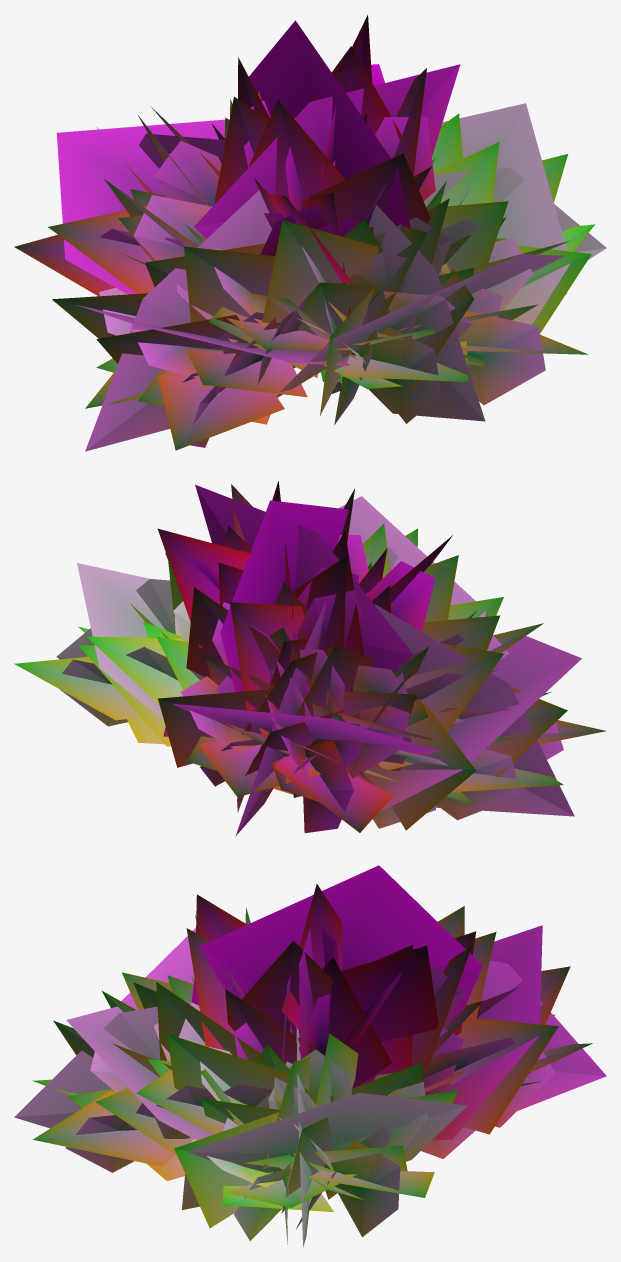
The model's file is filber_tree_0.FBX.
3 renders of one model, top to bottom at view 1: azimuth 30°, elevation 25°; view 2: azimuth 150°, elevation 25°; view 3: azimuth 270°, elevation 25°, orthographic. The views are drawn at different scales.
Parts seen in each view (by area): view 1: filbert_leaves_lod_0, filbert_leaves_shadow; view 2: filbert_leaves_lod_0, filbert_leaves_shadow; view 3: filbert_leaves_lod_0, filbert_leaves_shadow.
Part boxes in pixels (x1,y1,x2,y2): filbert_leaves_lod_0: (14, 15, 595, 450); filbert_leaves_shadow: (56, 20, 606, 451); filbert_leaves_lod_0: (14, 481, 606, 833); filbert_leaves_shadow: (56, 484, 581, 836); filbert_leaves_lod_0: (32, 883, 592, 1244); filbert_leaves_shadow: (14, 865, 606, 1247).
Size of what is drawn, in the model's own units: 4.69 by 2.87 by 4.62.
